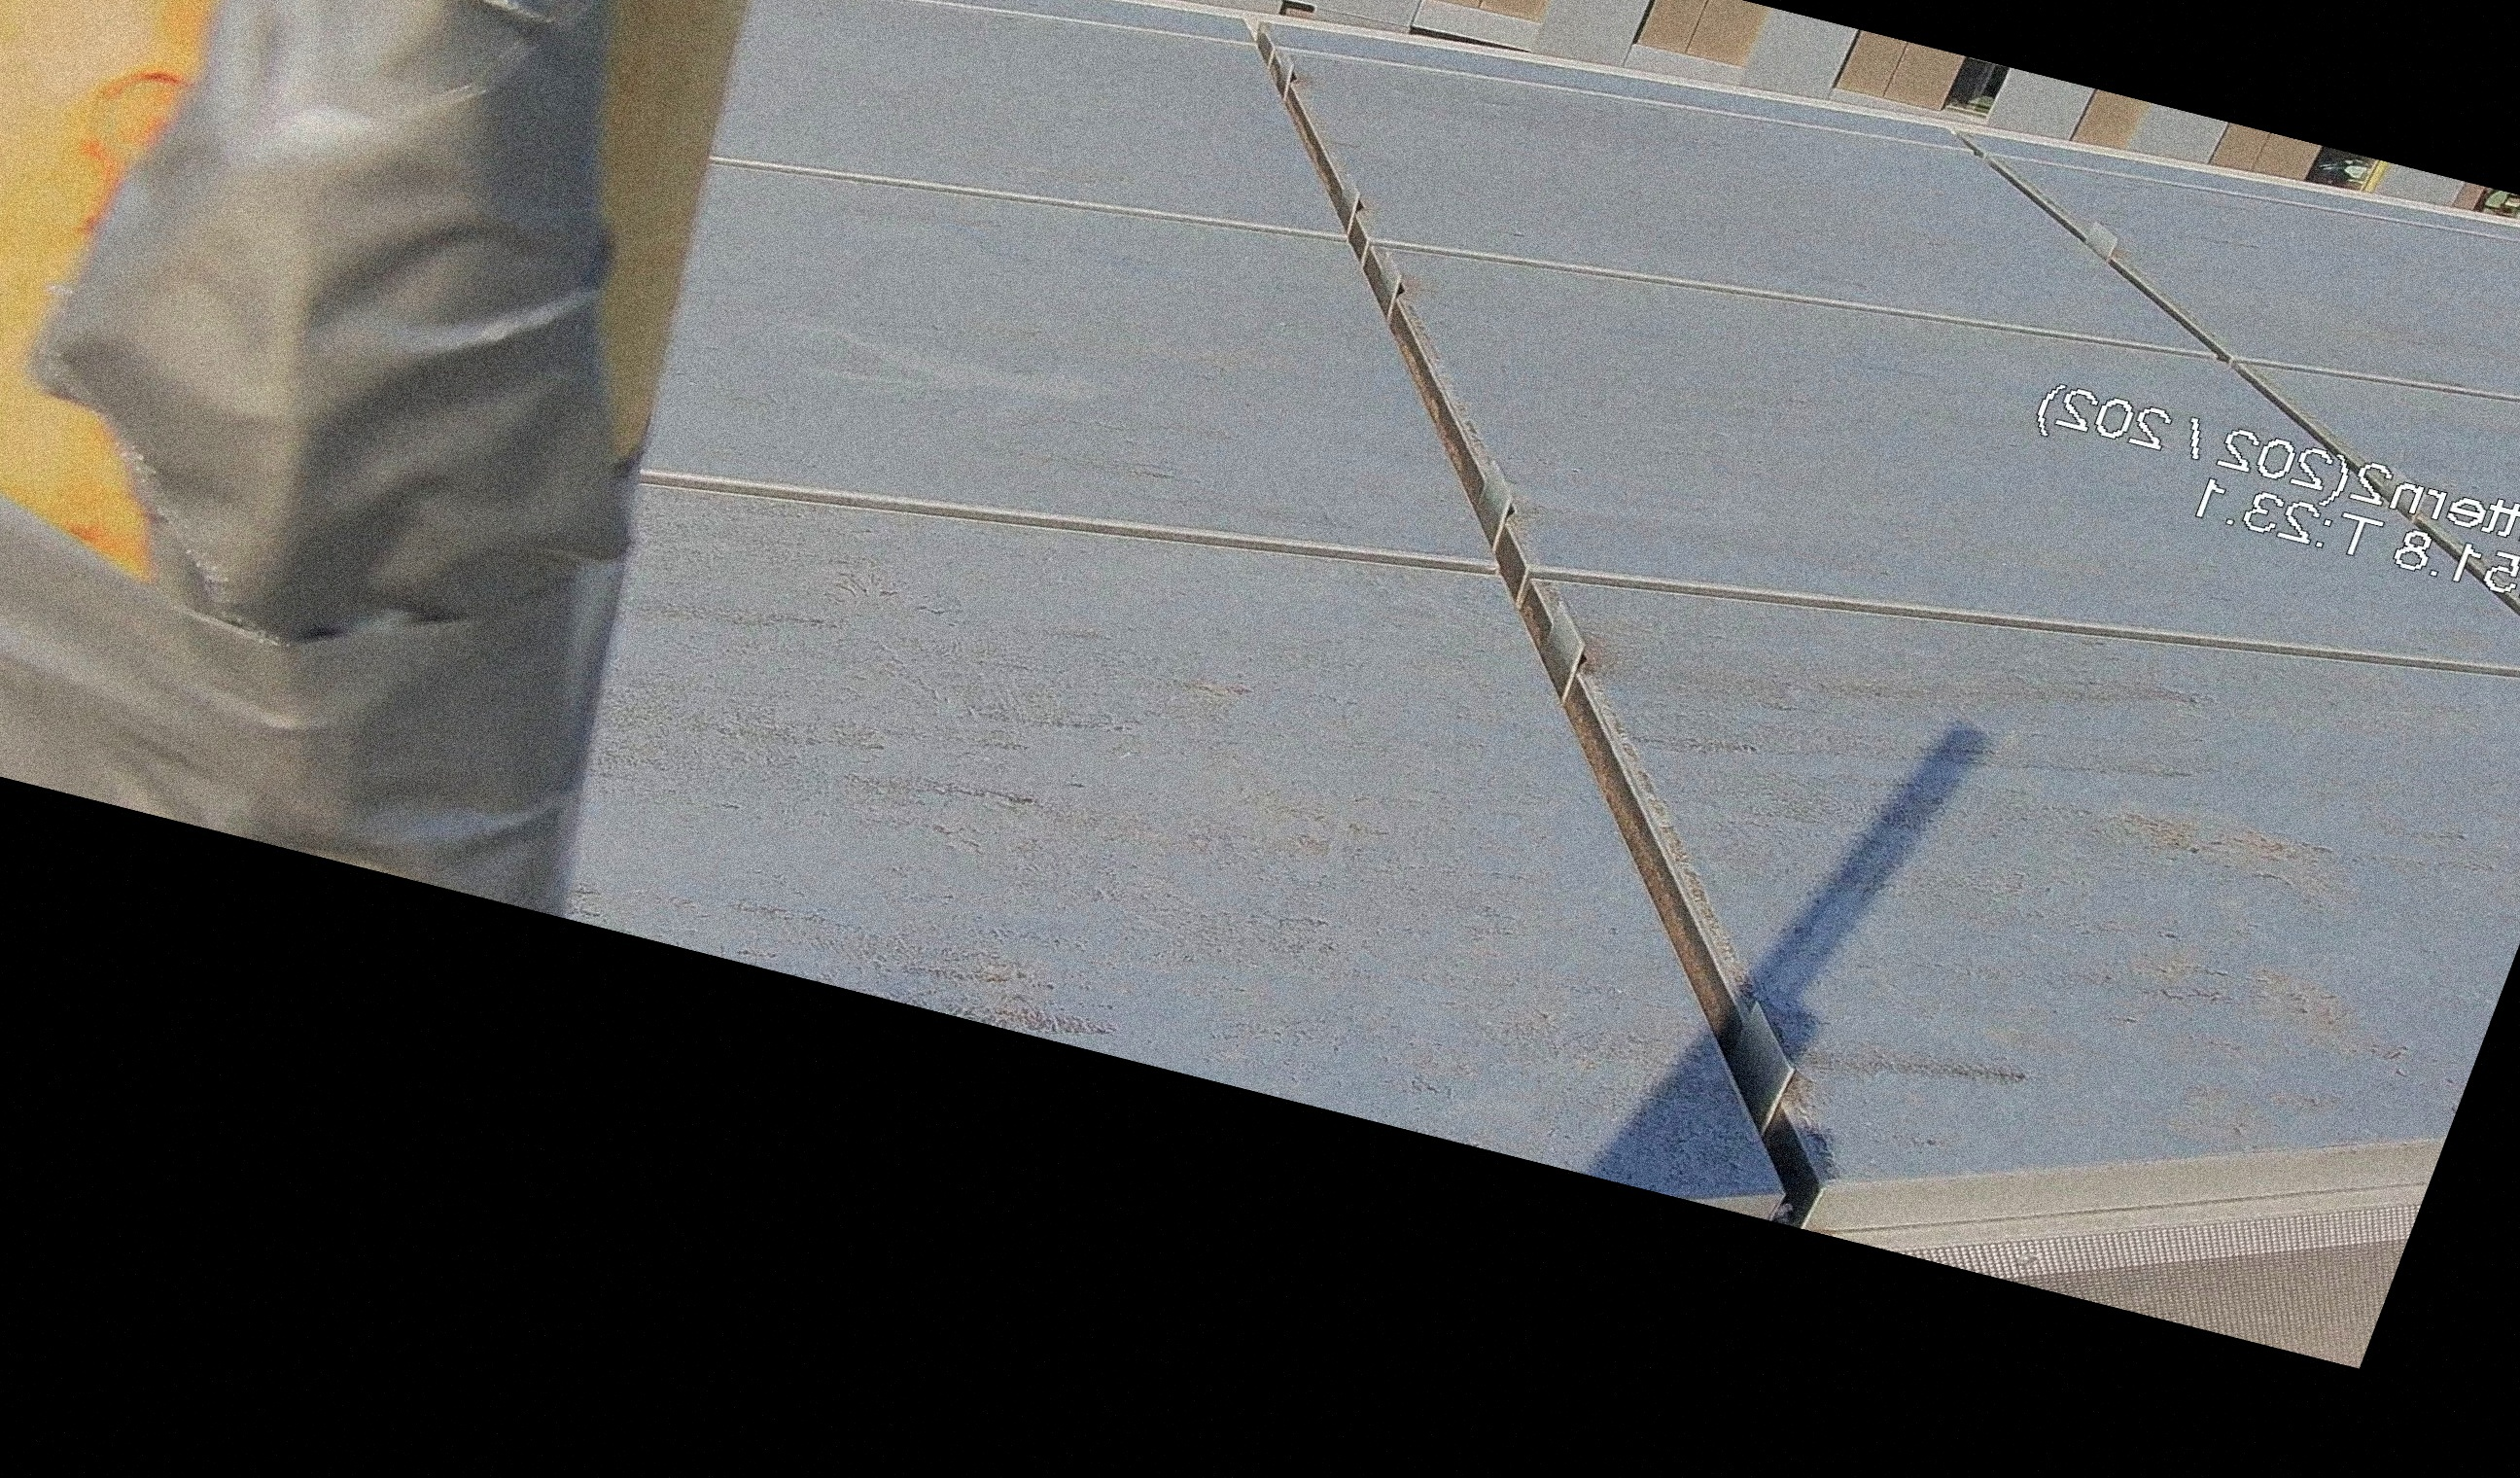Other: (0, 0, 948, 871)
